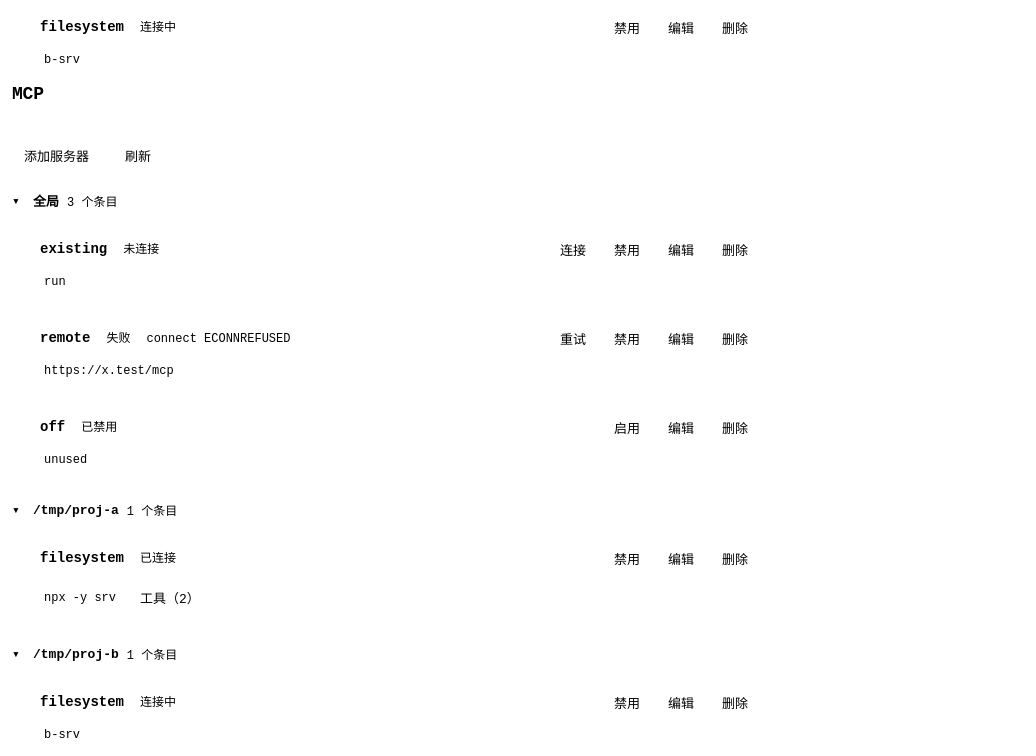
it: McpView grouped snapshot › folds and unfolds a group
(page scrolled)
Expected: the 2nd list item with test id "mcp-server-filesystem" is shown, top-left (28, 531), bottom-right (772, 625)
Click the button "▾ /tmp/proj-a 1 个条目" at {"x": 76, "y": 510}, box top-left (12, 497), bottom-right (772, 523)
(page scrolled)
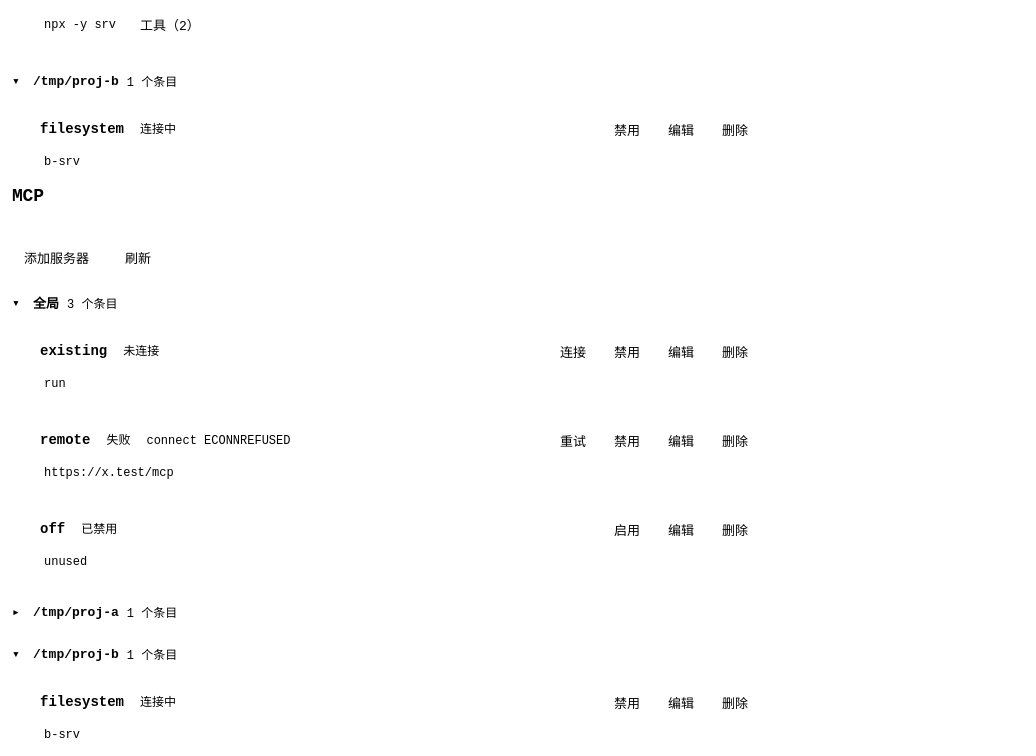
Click the button "▸ /tmp/proj-a 1 个条目" at {"x": 76, "y": 612}, box top-left (12, 599), bottom-right (772, 625)
(page scrolled)
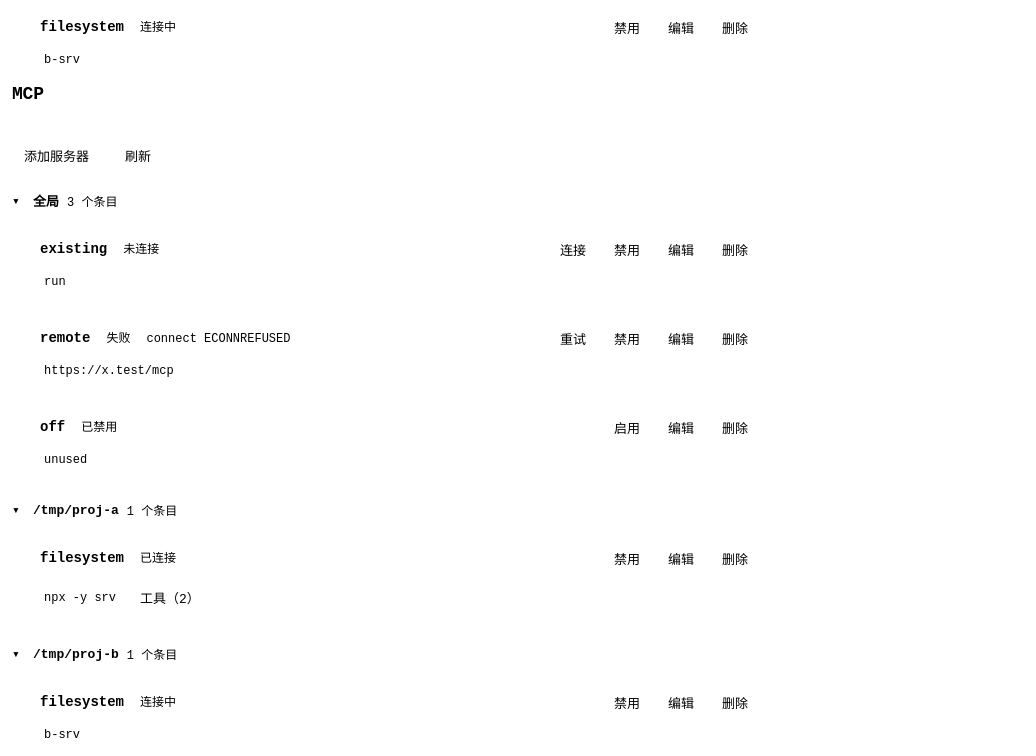
Expected: the 2nd list item with test id "mcp-server-filesystem" is shown, top-left (28, 531), bottom-right (772, 625)
